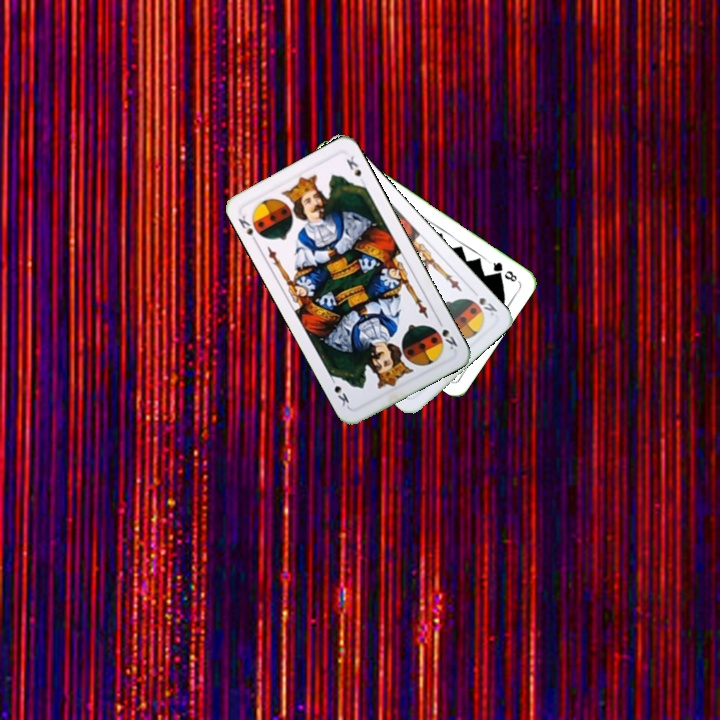G8: (485, 257, 520, 284)
SK: (433, 315, 460, 352), (234, 210, 261, 246), (475, 293, 500, 319)
